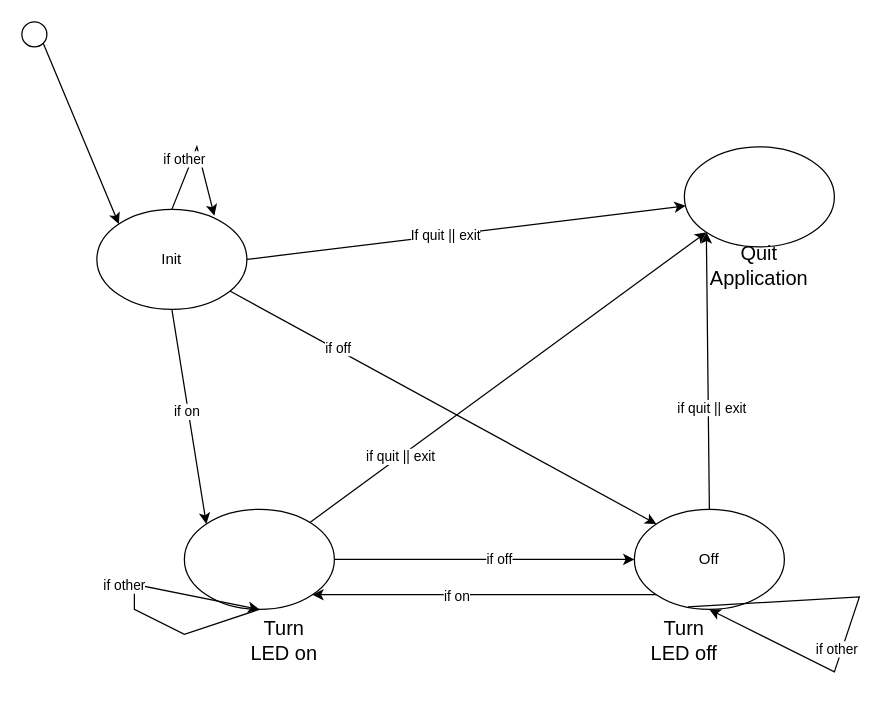
The diagram is 891 pixels wide and 704 high, and some of its shapes have lost their labels. Each missing label, with the centre of its shape:
"End" goes at pixel 758 196.
"On" goes at pixel 258 558.
